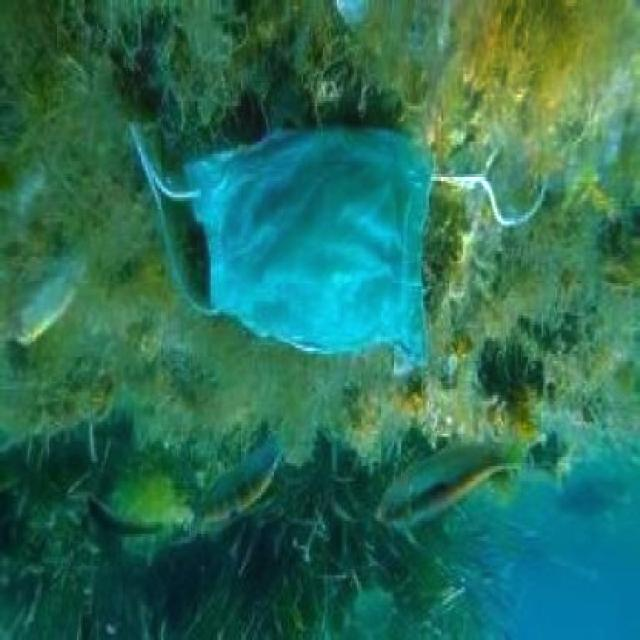Mask: (118, 103, 552, 375)
